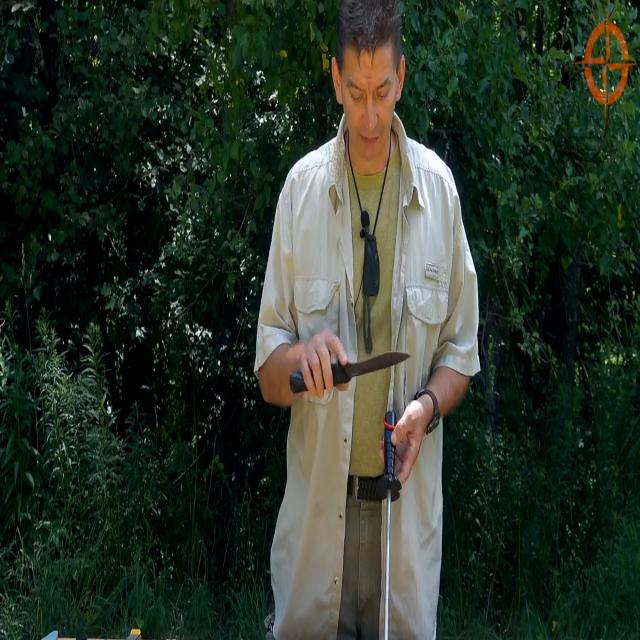knife: (290, 349, 413, 399)
